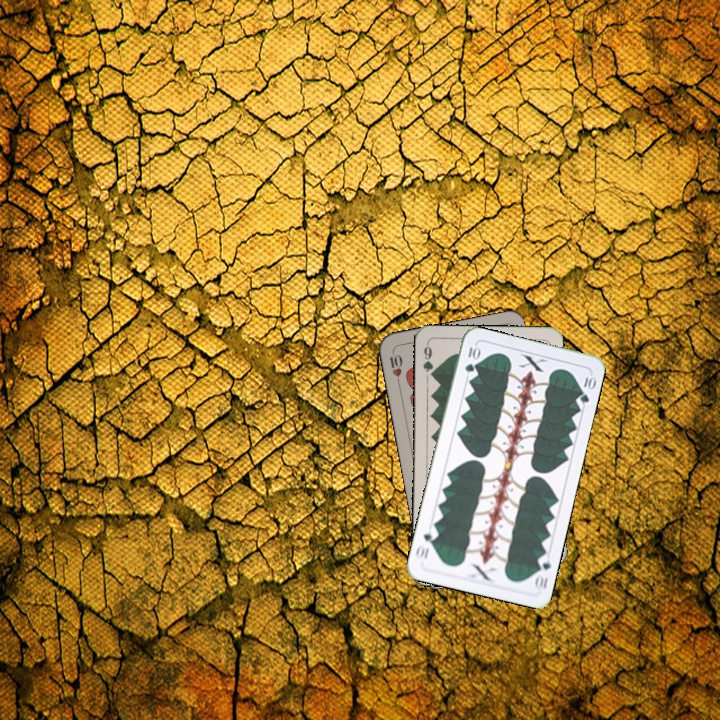G10: (531, 551, 553, 593), (461, 341, 481, 376)
G9: (419, 340, 437, 381)
H10: (385, 347, 405, 388)
